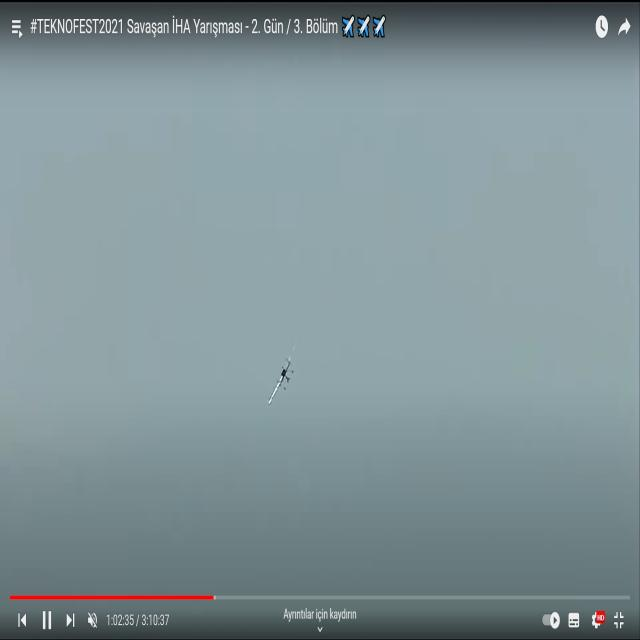iha: (268, 345, 296, 405)
